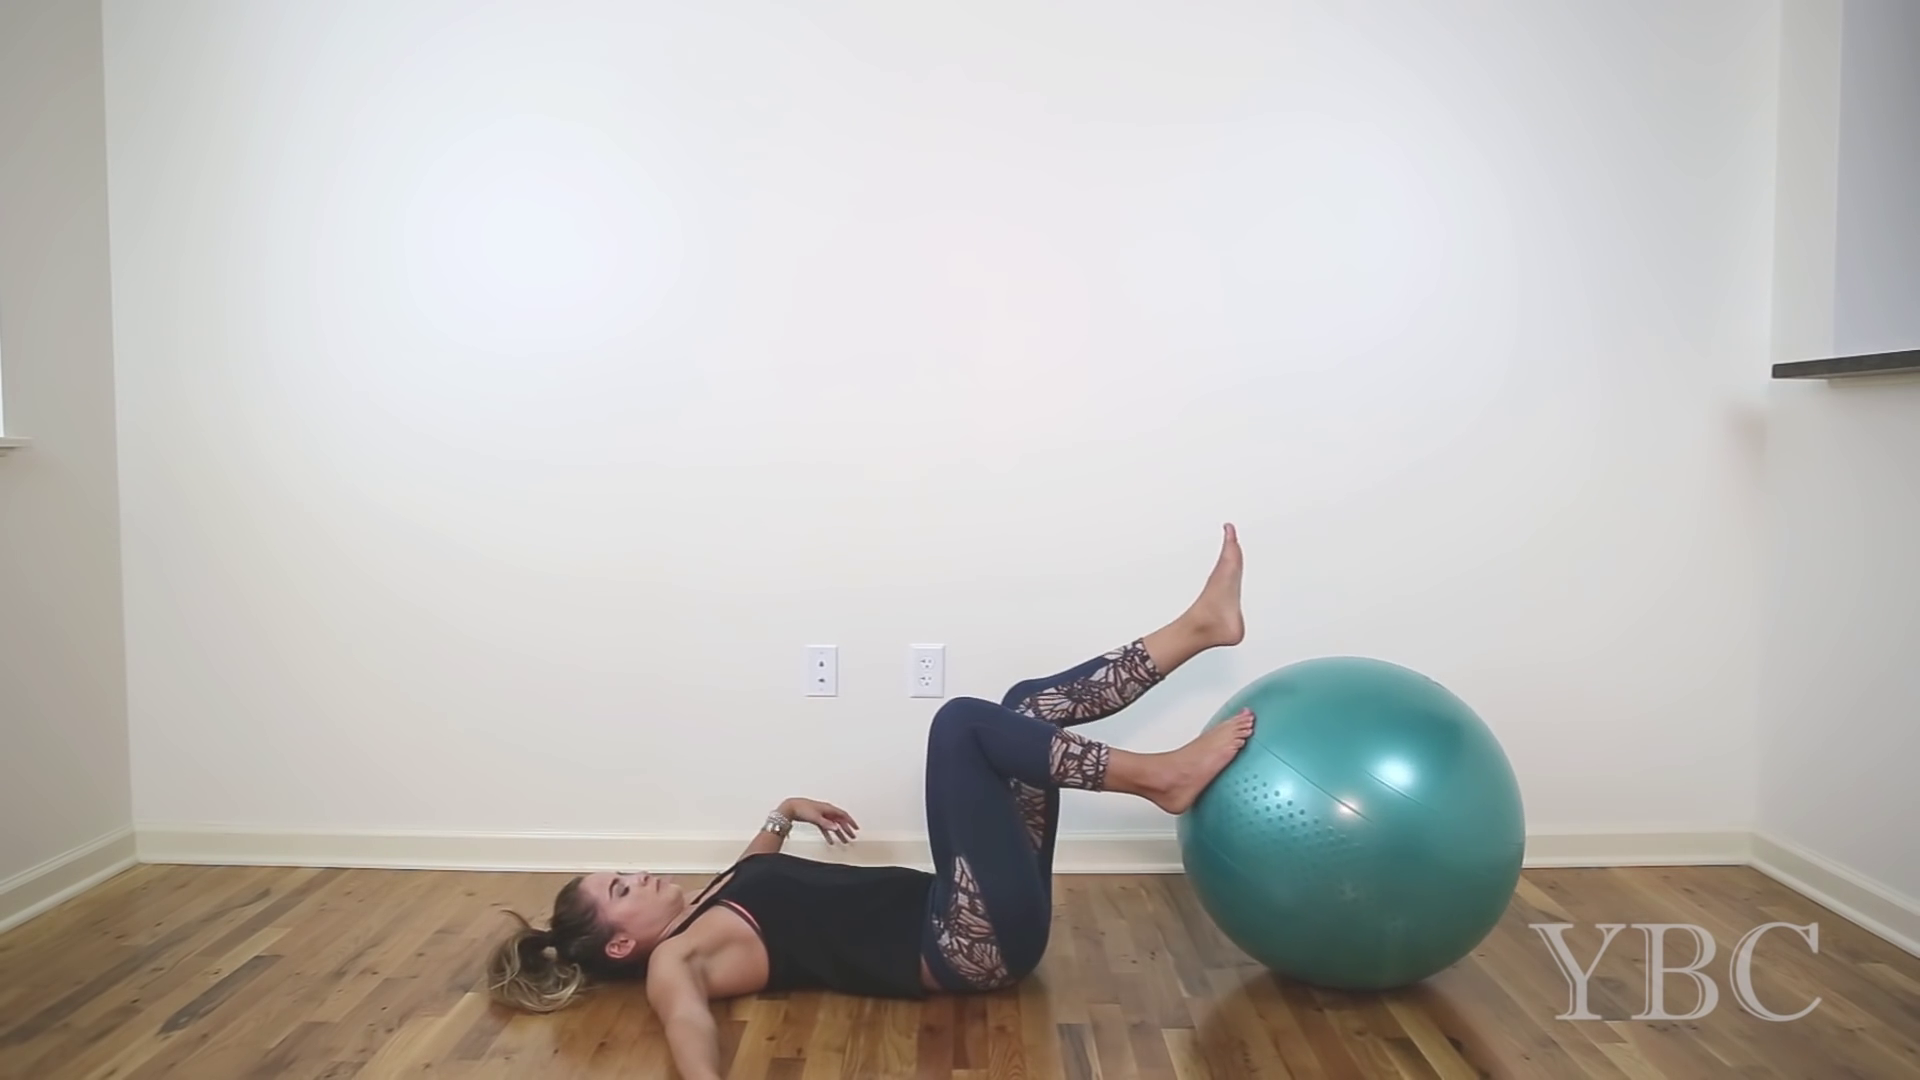yogaball: (1166, 646, 1538, 1010)
